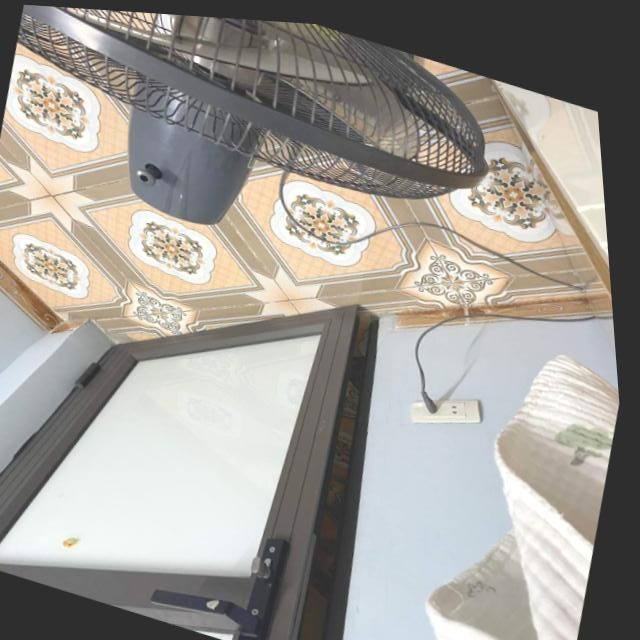outlet: (404, 381, 488, 445)
